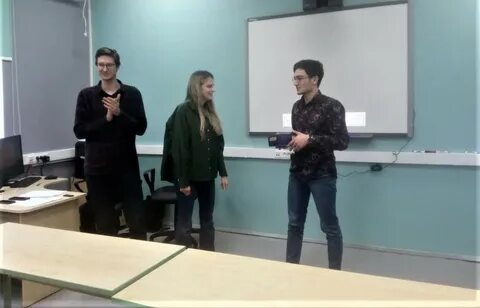students: (267, 58, 352, 270), (74, 45, 150, 239), (161, 68, 231, 253)
